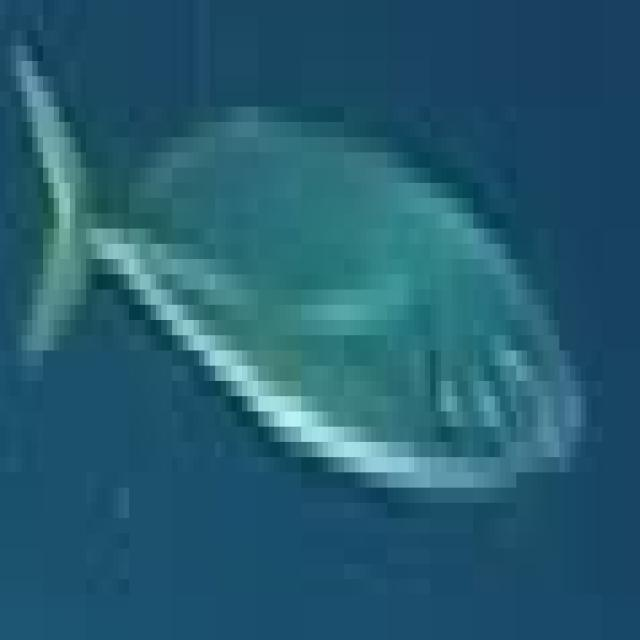fish: (5, 0, 640, 625)
